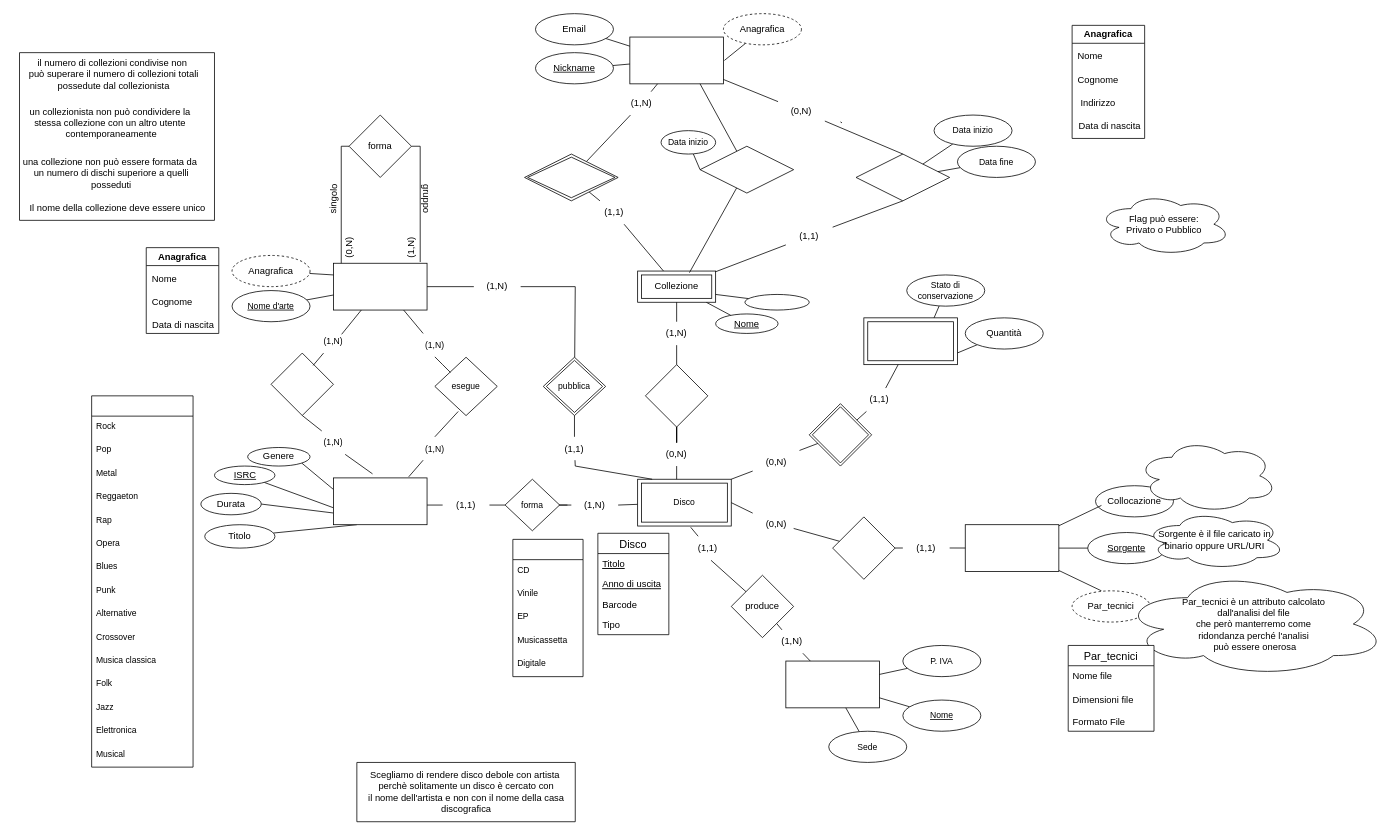
This 1400x835 diagram has some shape labels left out. The shapes that lost their labels are listed below. From the top down, each one's box as (x1, y1, x2, y2) in pixels, then its label:
(629, 36, 723, 84): Collezionista
(19, 52, 214, 220): REGOLE DI VINCOLO
(524, 153, 618, 201): Possiede
(699, 145, 794, 193): condivide
(855, 153, 950, 201): è stata condivisa
(333, 262, 427, 310): Artista
(744, 294, 809, 310): Flag
(863, 317, 957, 365): Copia
(270, 352, 333, 416): compone
(645, 364, 708, 427): Contiene
(808, 403, 872, 466): quantizza
(1136, 438, 1277, 513): Posizione dell'immagine fisica sul disco: copertina,retro...
(333, 477, 427, 525): Brano
(832, 516, 895, 579): Raffigura
(964, 524, 1059, 572): Immagini
(91, 395, 193, 767): Genere(ENUM)
(512, 539, 583, 677): Tipo (ENUM)
(785, 660, 879, 708): Etichetta
